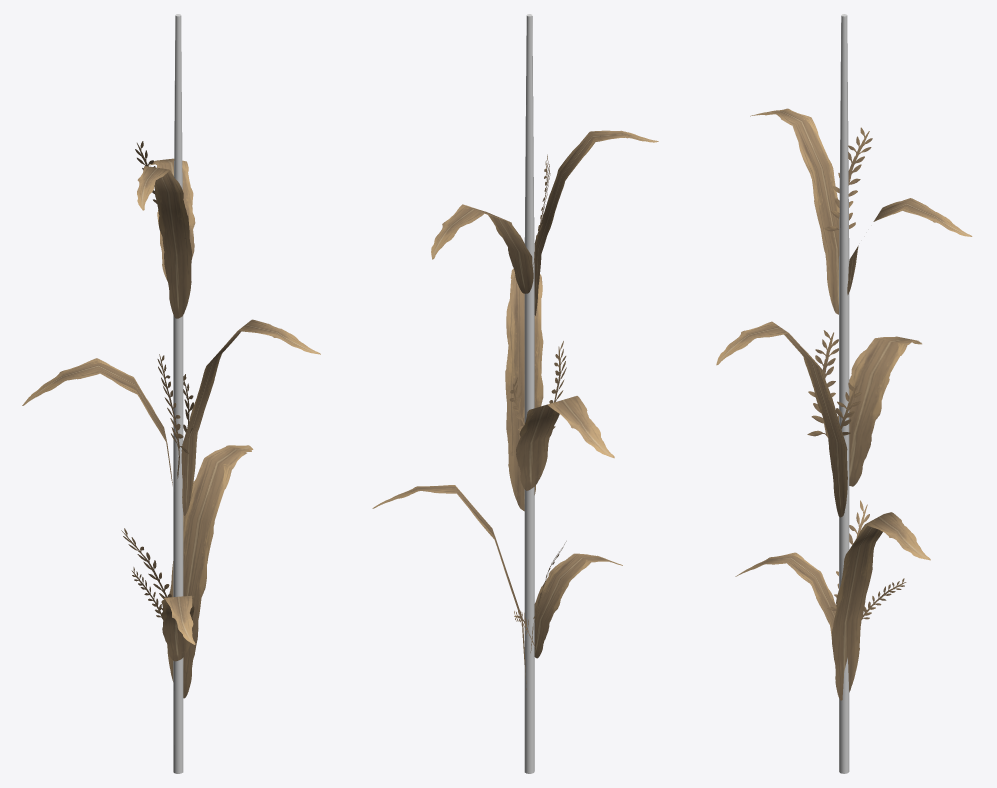
Rendered from CornTest.FBX.
The picture shows the model from 3 angles, left to right: view 1: azimuth 30°, elevation 25°; view 2: azimuth 150°, elevation 25°; view 3: azimuth 270°, elevation 25°; orthographic projection.
Parts seen in each view (by area): view 1: Corn Leaf007, Cylinder001, Corn Leaf005, Corn Leaf003, Corn Leaf002, Corn Leaf006, Corn Leaf004, LongCornFern001; view 2: Cylinder001, Corn Leaf003, Corn Leaf002, Corn Leaf004, Corn Leaf005, Corn Leaf006, Corn Leaf007; view 3: Cylinder001, Corn Leaf007, Corn Leaf002, Corn Leaf005, Corn Leaf003, Corn Leaf006, Corn Leaf004, LongCornFern003, LongCornFern001.
Boxes of the visible parts, x1=… form: Corn Leaf007: x1=167, y1=445, x2=253, y2=698; Cylinder001: x1=173, y1=14, x2=183, y2=773; Corn Leaf005: x1=137, y1=166, x2=192, y2=318; Corn Leaf003: x1=181, y1=319, x2=320, y2=515; Corn Leaf002: x1=22, y1=358, x2=172, y2=485; Corn Leaf006: x1=161, y1=595, x2=195, y2=661; Corn Leaf004: x1=149, y1=158, x2=195, y2=280; LongCornFern001: x1=157, y1=354, x2=188, y2=478; Cylinder001: x1=524, y1=14, x2=534, y2=773; Corn Leaf003: x1=505, y1=268, x2=543, y2=511; Corn Leaf002: x1=516, y1=396, x2=614, y2=490; Corn Leaf004: x1=431, y1=204, x2=533, y2=293; Corn Leaf005: x1=534, y1=130, x2=658, y2=315; Corn Leaf006: x1=534, y1=553, x2=622, y2=658; Corn Leaf007: x1=372, y1=485, x2=526, y2=689; Cylinder001: x1=839, y1=14, x2=849, y2=773; Corn Leaf007: x1=832, y1=512, x2=930, y2=700; Corn Leaf002: x1=838, y1=336, x2=921, y2=486; Corn Leaf005: x1=750, y1=108, x2=839, y2=314; Corn Leaf003: x1=716, y1=321, x2=847, y2=517; Corn Leaf006: x1=735, y1=552, x2=836, y2=639; Corn Leaf004: x1=847, y1=198, x2=972, y2=294; LongCornFern003: x1=824, y1=127, x2=872, y2=231; LongCornFern001: x1=807, y1=330, x2=838, y2=437.
Size of the model in its own units: 39.79 by 108 by 37.03.
3 materials, 3 textured.
